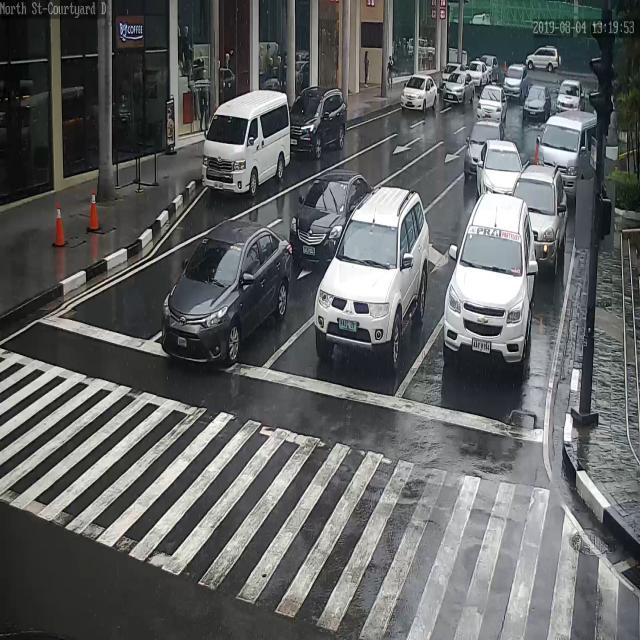car: (314, 184, 430, 366), (163, 220, 292, 362), (443, 191, 536, 375), (291, 169, 372, 268), (511, 159, 567, 280), (291, 85, 348, 158), (477, 138, 523, 198), (465, 120, 507, 180), (401, 74, 438, 112), (477, 85, 507, 121), (442, 73, 474, 105), (524, 85, 552, 121), (555, 78, 584, 112), (468, 60, 502, 86), (526, 45, 560, 71), (503, 64, 528, 98), (439, 62, 464, 92)
van: (202, 89, 290, 192), (537, 111, 597, 196)
